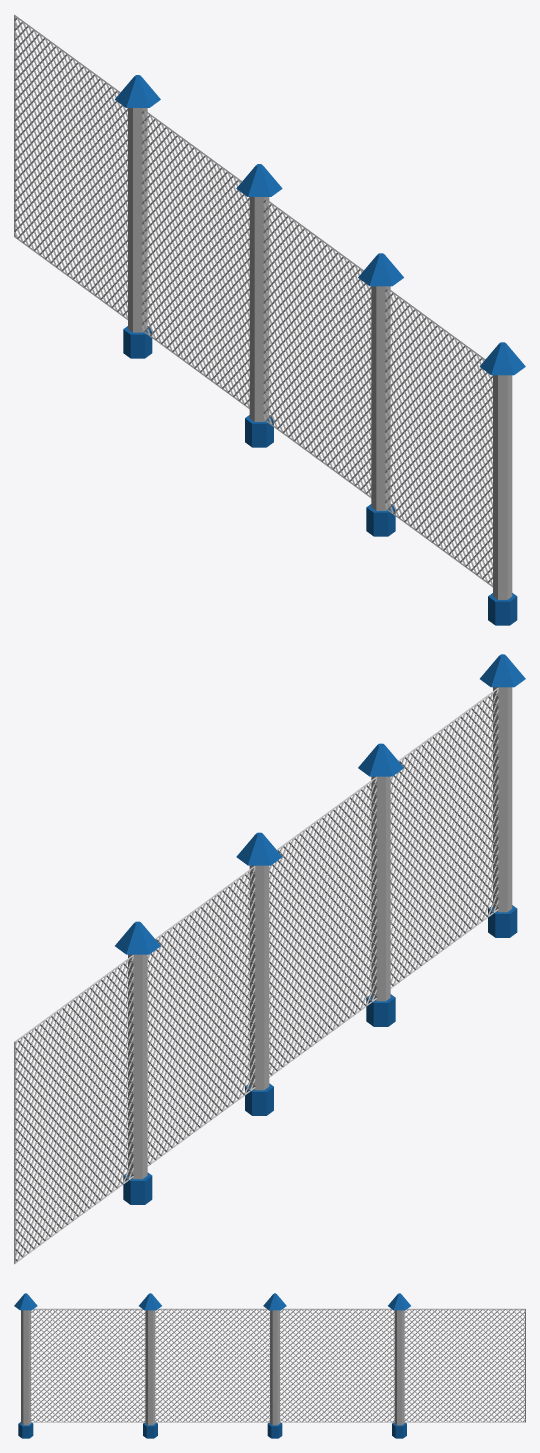
Rendered from grade4.fbx.
The picture shows the model from 3 angles, top to bottom: view 1: azimuth 30°, elevation 25°; view 2: azimuth 150°, elevation 25°; view 3: azimuth 270°, elevation 25°; orthographic projection. The views are drawn at different scales.
Visible parts, largest first — view 1: Cylinder.042; view 2: Cylinder.042; view 3: Cylinder.042.
Part boxes in pixels (x1,y1,x2,y2): Cylinder.042: (14, 14, 525, 625); Cylinder.042: (14, 654, 525, 1264); Cylinder.042: (14, 1293, 525, 1438).
Size of the model in its own units: 24.93 by 189 by 618.
